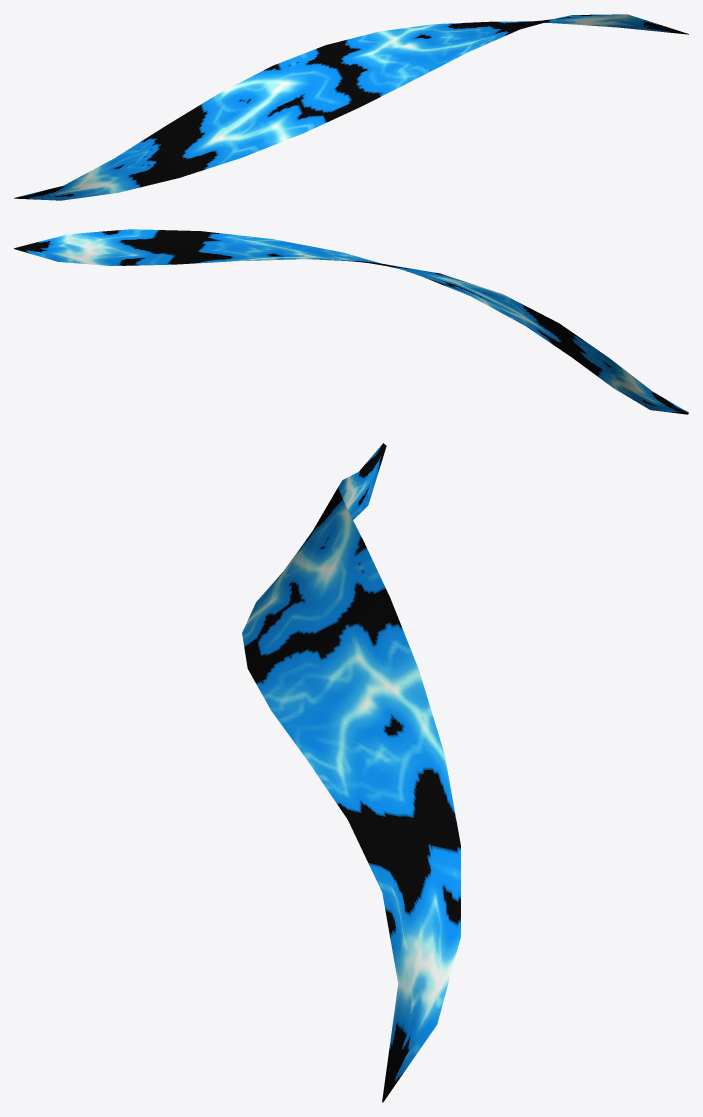
3 views of the same model, one above another, from view 1: azimuth 30°, elevation 25°; view 2: azimuth 150°, elevation 25°; view 3: azimuth 270°, elevation 25° (orthographic). The views are drawn at different scales.
Parts seen in each view (by area): view 1: Plane003; view 2: Plane003; view 3: Plane003.
Part boxes in pixels (x1,y1,x2,y2): Plane003: (14,14,688,200); Plane003: (14,229,688,414); Plane003: (242,443,460,1102).
Size of the model in its own units: 261 by 31.64 by 36.69.
1 material, 1 textured.
